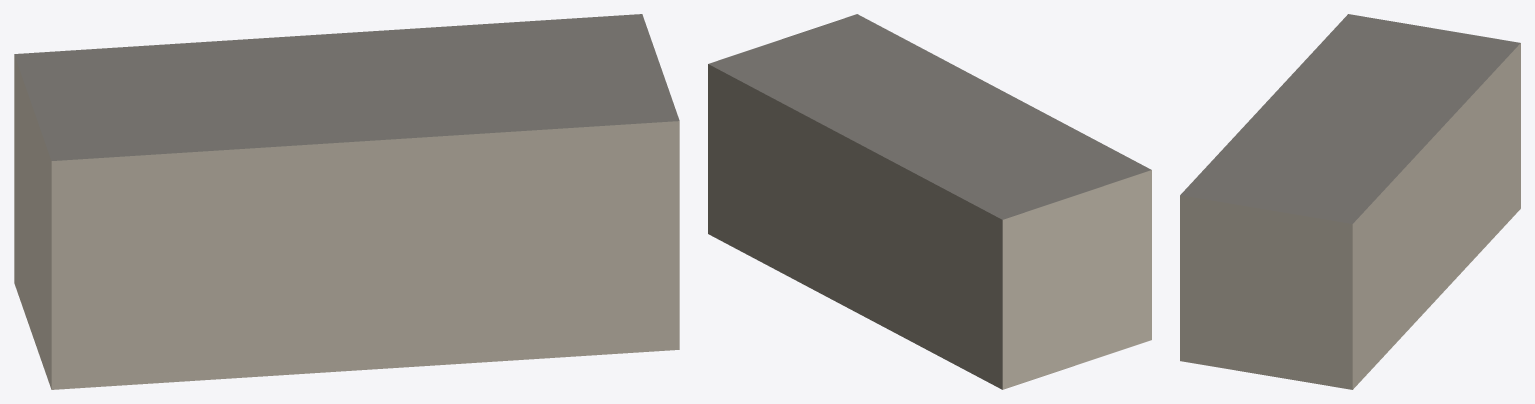
3 renders of one model, left to right at view 1: azimuth 30°, elevation 25°; view 2: azimuth 150°, elevation 25°; view 3: azimuth 270°, elevation 25°, orthographic. The views are drawn at different scales.
Visible parts, largest first — view 1: HP-w859488849; view 2: HP-w859488849; view 3: HP-w859488849.
Boxes of the visible parts, box(x1,y1,x2,y2) form: HP-w859488849: box(14, 14, 679, 389); HP-w859488849: box(708, 14, 1151, 389); HP-w859488849: box(1180, 14, 1520, 389).
Size of the model in its own units: 48.89 by 18 by 33.51.
